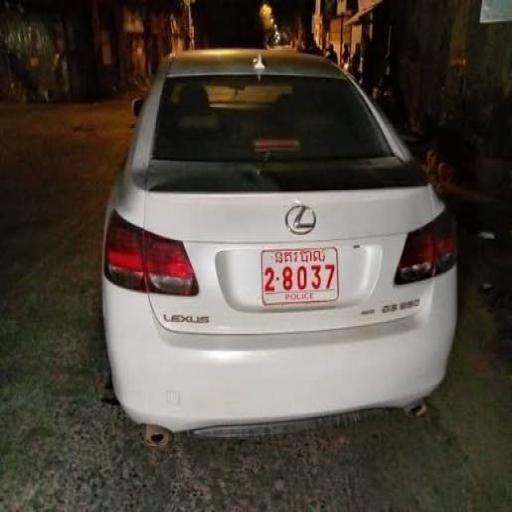Plate Number: (262, 247, 337, 307)
